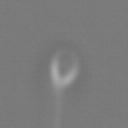normal: (50, 89, 68, 128)
